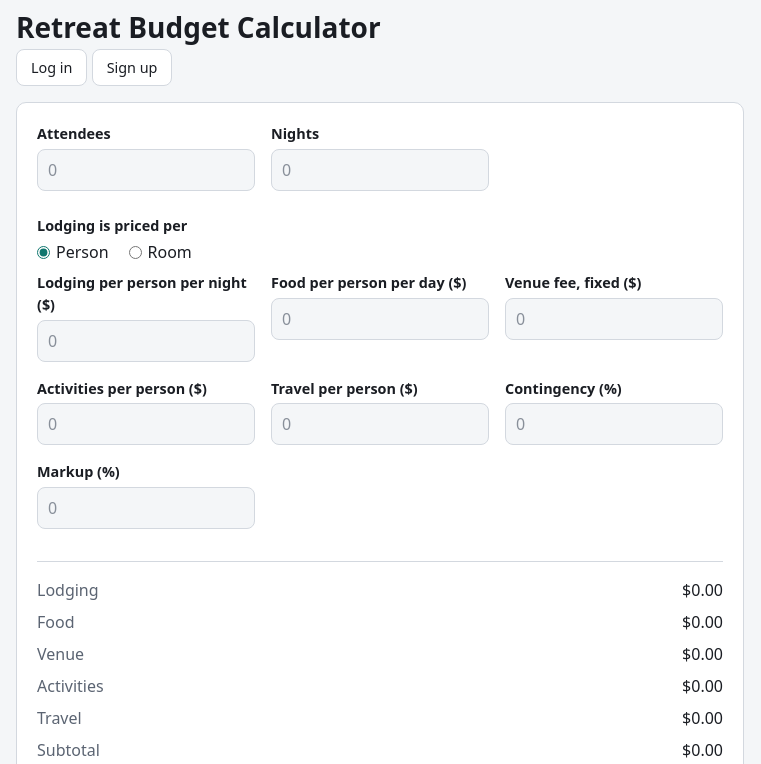
Test: lodging mode (signed out) › switching to per room flips the label and shows people per room and Rooms needed
Click the radio button labelled "Room".
click(135, 252)  # box [128, 246, 142, 259]
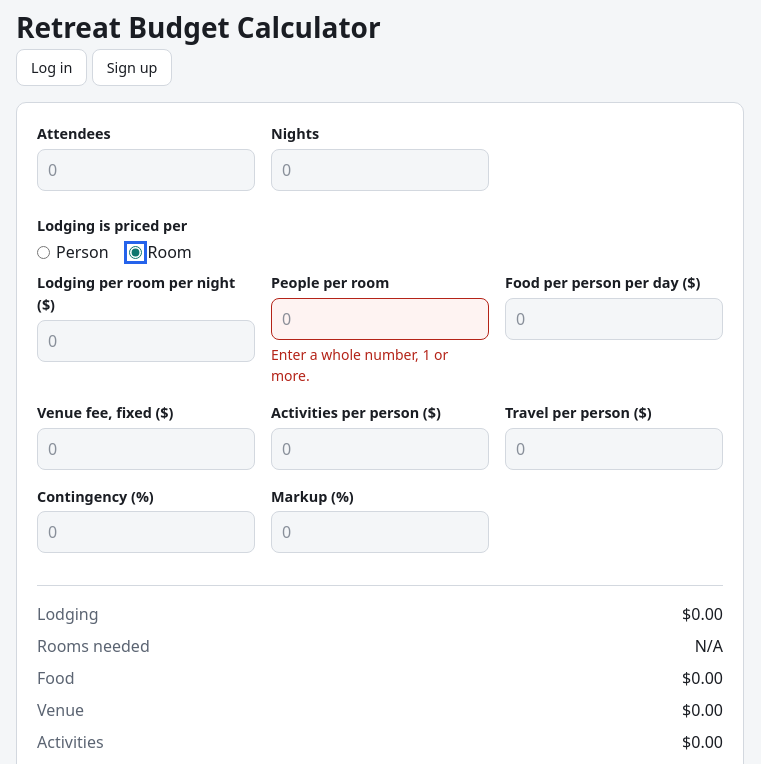
expect the radio button labelled "Room" is checked: met, box [128, 246, 142, 259]
expect the label labelled "Lodging per person per night ($)" is gone: met
expect the number field labelled "People per room" is shown: met, box [271, 298, 489, 340]
